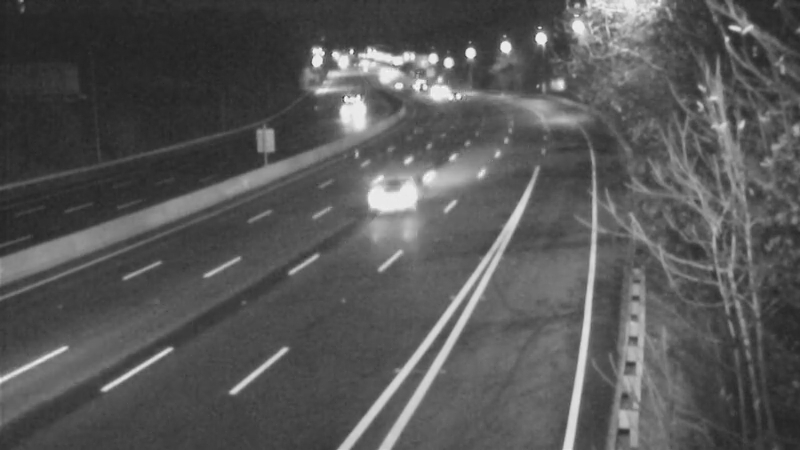vehicle: (348, 157, 428, 237), (372, 65, 422, 115), (415, 65, 465, 115), (429, 72, 479, 122), (320, 91, 370, 141)
